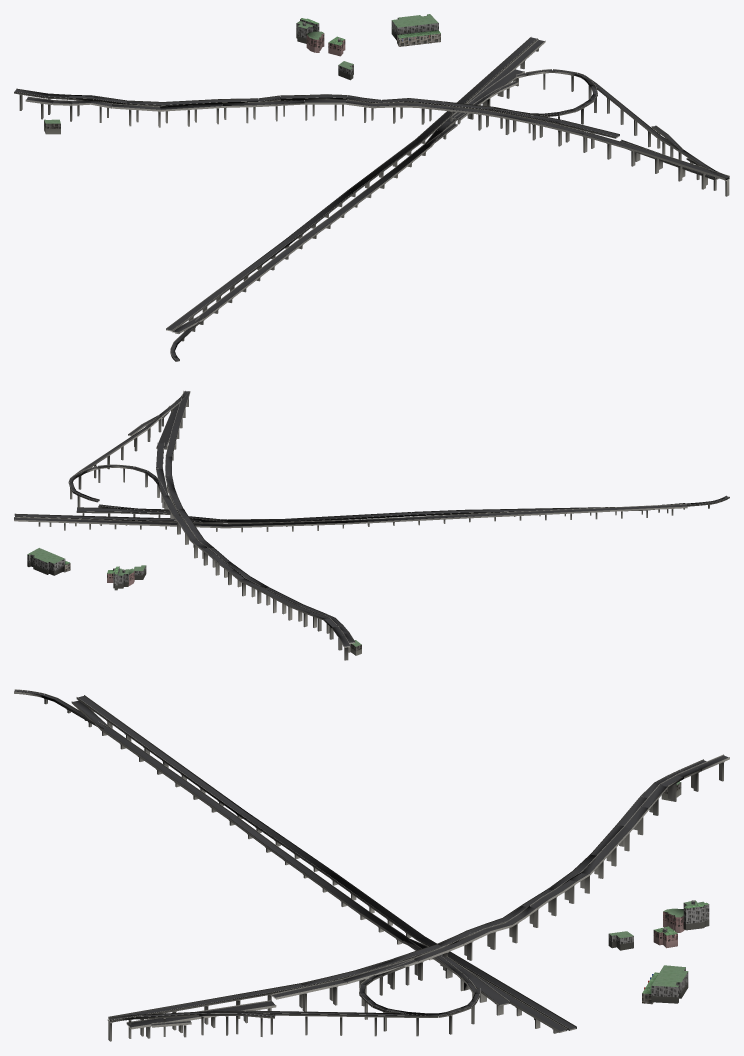
3 renders of one model, top to bottom at view 1: azimuth 30°, elevation 25°; view 2: azimuth 150°, elevation 25°; view 3: azimuth 270°, elevation 25°, orthographic. The views are drawn at different scales.
Parts seen in each view (by area): view 1: bridges_concrete, bridges_deck, buildings_facade_ai_grey, buildings_roof_ai_1; view 2: bridges_concrete, bridges_deck, buildings_facade_ai_grey, buildings_roof_ai_1; view 3: bridges_concrete, bridges_deck, buildings_facade_ai_grey, buildings_roof_ai_1, buildings_facade_ai_pink.
Boxes of the visible parts, x1,y1,x2,y2 form: bridges_concrete: (14, 37, 729, 361); bridges_deck: (15, 37, 728, 360); buildings_facade_ai_grey: (296, 15, 438, 80); buildings_roof_ai_1: (44, 14, 438, 123); bridges_concrete: (14, 390, 729, 660); bridges_deck: (14, 391, 728, 646); buildings_facade_ai_grey: (27, 554, 146, 590); buildings_roof_ai_1: (27, 548, 361, 646); bridges_concrete: (14, 689, 729, 1041); bridges_deck: (14, 690, 728, 1031); buildings_facade_ai_grey: (608, 903, 709, 1003); buildings_roof_ai_1: (609, 781, 704, 987); buildings_facade_ai_pink: (653, 911, 684, 948).
Bounding box in the file's own units: 706 × 44.59 × 619.
10 materials, 8 textured.
